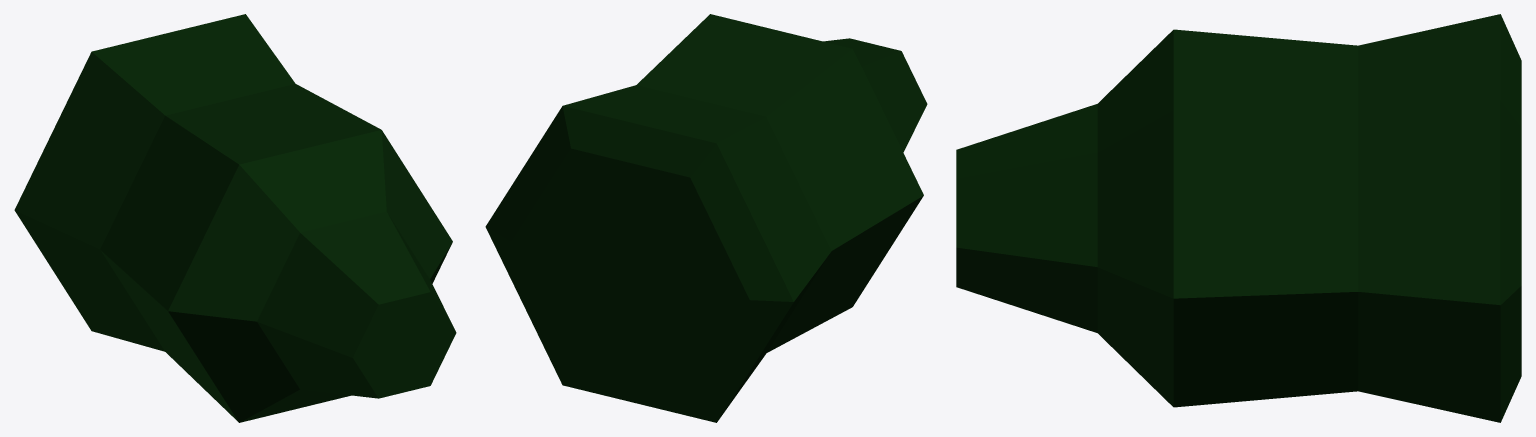
Rendered from LemonBottleCollider.obj.
3 renders of one model, left to right at view 1: azimuth 30°, elevation 25°; view 2: azimuth 150°, elevation 25°; view 3: azimuth 270°, elevation 25°, orthographic. The views are drawn at different scales.
Visible parts, largest first — view 1: sodaBottle, sodaBottle.002, sodaBottle.004, sodaBottle.003; view 2: sodaBottle, sodaBottle.004, sodaBottle.003; view 3: sodaBottle.004, sodaBottle, sodaBottle.003, sodaBottle.002.
Part boxes in pixels (<box>): sodaBottle: <box>14,14,295,351</box>; sodaBottle.002: <box>168,130,452,422</box>; sodaBottle.004: <box>100,84,381,422</box>; sodaBottle.003: <box>257,211,456,398</box>; sodaBottle: <box>485,85,831,422</box>; sodaBottle.004: <box>636,14,923,352</box>; sodaBottle.003: <box>823,38,927,152</box>; sodaBottle.004: <box>1173,29,1358,407</box>; sodaBottle: <box>1358,14,1521,422</box>; sodaBottle.003: <box>956,104,1097,332</box>; sodaBottle.002: <box>1097,30,1173,406</box>.
Bounding box in the file's own units: 0.0902 × 0.0782 × 0.1242.
